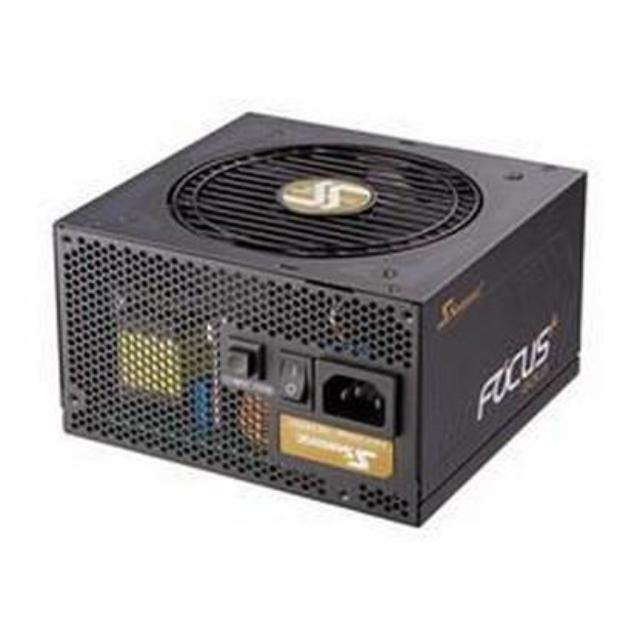PSU: (34, 89, 597, 531)
